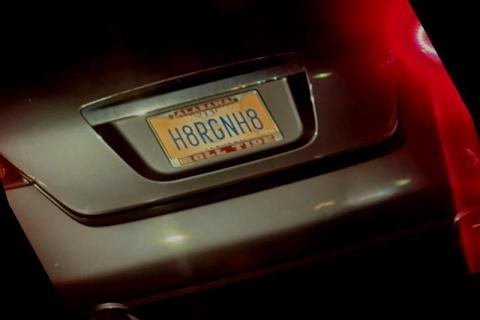LicensePlate: (142, 87, 283, 167)
